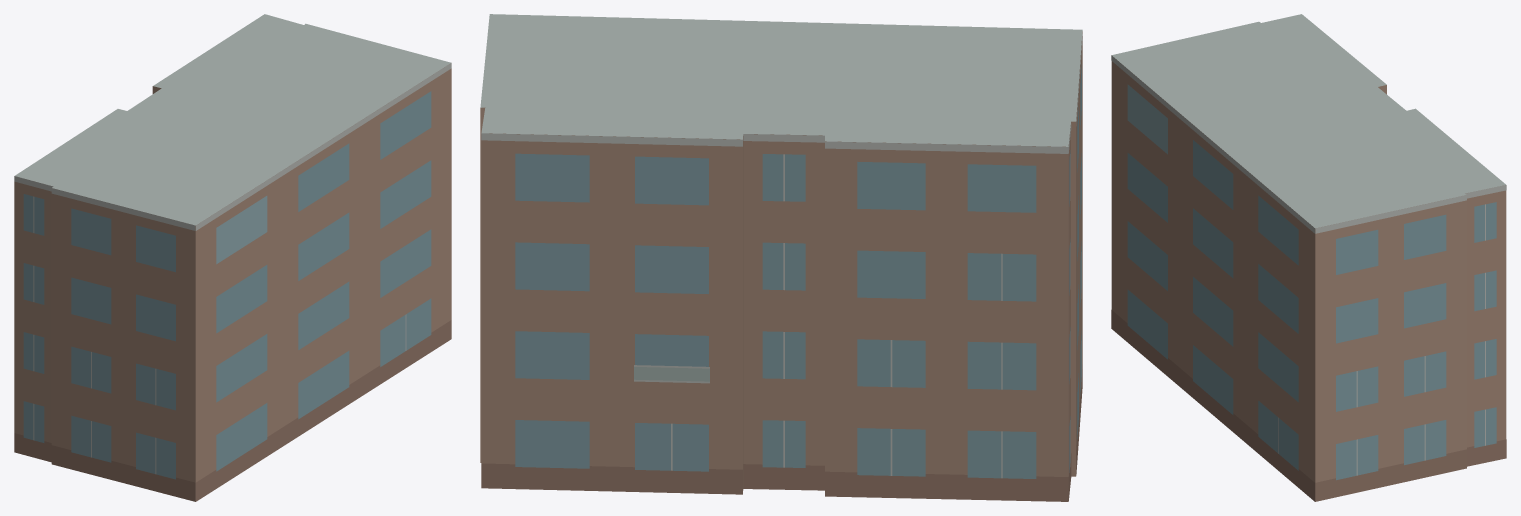
Rendered from survey-upis-32938633.glb.
The picture shows the model from 3 angles, left to right: view 1: azimuth 30°, elevation 25°; view 2: azimuth 150°, elevation 25°; view 3: azimuth 270°, elevation 25°; orthographic projection. The views are drawn at different scales.
Parts seen in each view (by area): view 1: survey-upis-32938633.tmp; view 2: survey-upis-32938633.tmp; view 3: survey-upis-32938633.tmp.
Boxes of the visible parts, x1,y1,x2,y2 form: survey-upis-32938633.tmp: (14,14,451,501); survey-upis-32938633.tmp: (480,14,1082,501); survey-upis-32938633.tmp: (1111,14,1506,501).
Size of the model in its own units: 20.35 by 12.1 by 15.85.
